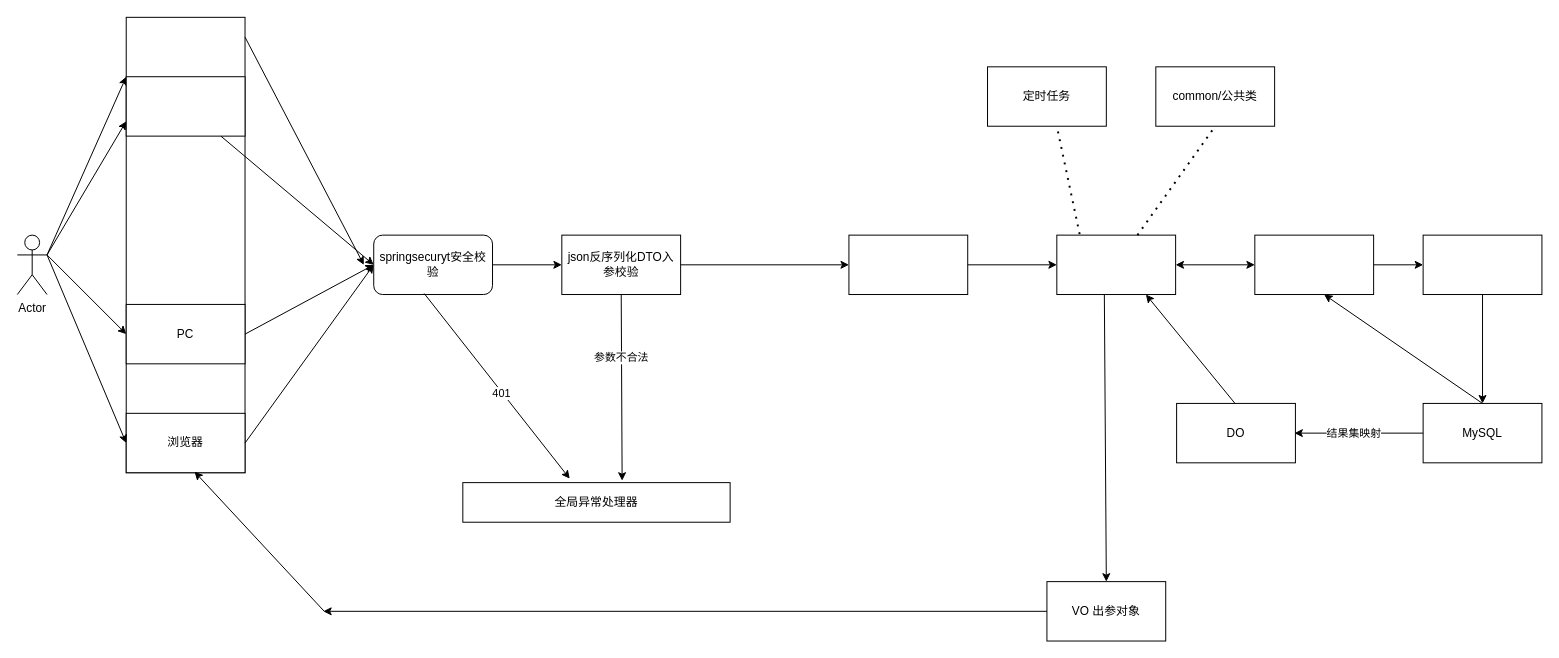
Some shapes in this 1559 by 658 pixel diagram are drawn without their labels. Here are the shapes that lost their labels. From the top down, the box of each, then its label:
(125, 76, 245, 136): 小程序
(125, 16, 245, 473): 移动端
(848, 234, 968, 295): controller接受请求路由分发
(1056, 234, 1176, 295): service业务规则
(1254, 234, 1374, 295): 缓存
(1422, 234, 1542, 295): Mapper接口
